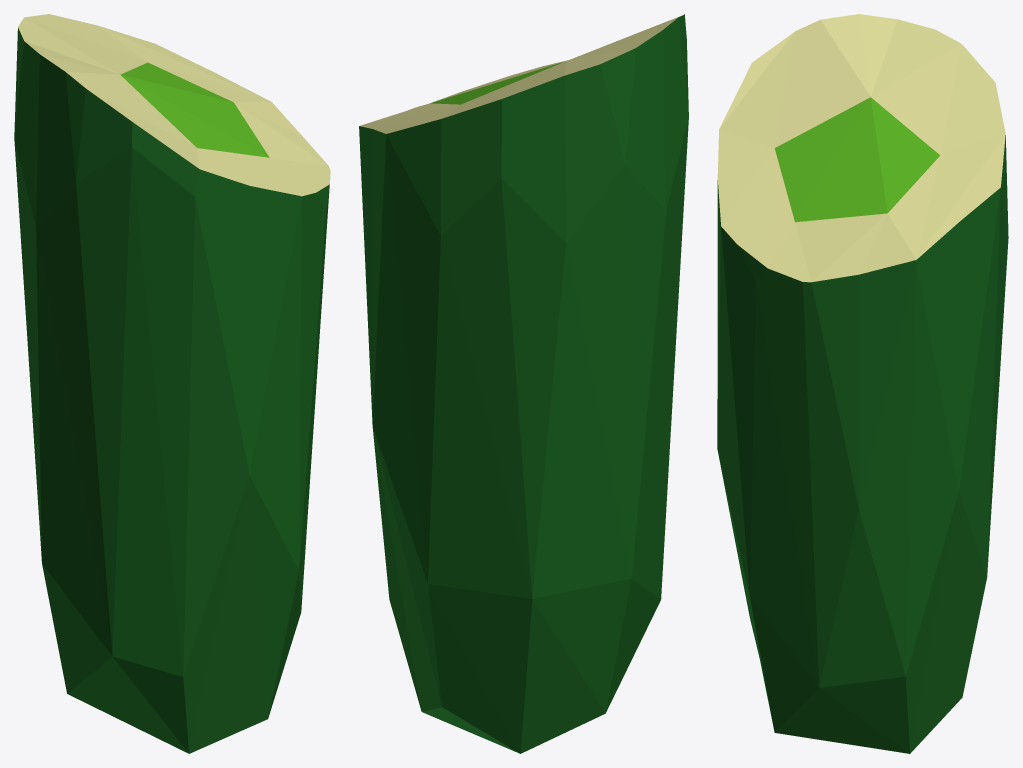
File: Cucumber_2.fbx
3 renders of one model, left to right at view 1: azimuth 30°, elevation 25°; view 2: azimuth 150°, elevation 25°; view 3: azimuth 270°, elevation 25°, orthographic. The views are drawn at different scales.
Parts seen in each view (by area): view 1: Cylinder.017; view 2: Cylinder.017; view 3: Cylinder.017.
Part boxes in pixels (x1,y1,x2,y2): Cylinder.017: (14,14,330,753); Cylinder.017: (359,14,688,753); Cylinder.017: (717,14,1008,753).
Bounding box in the file's own units: 146 × 358 × 146.
